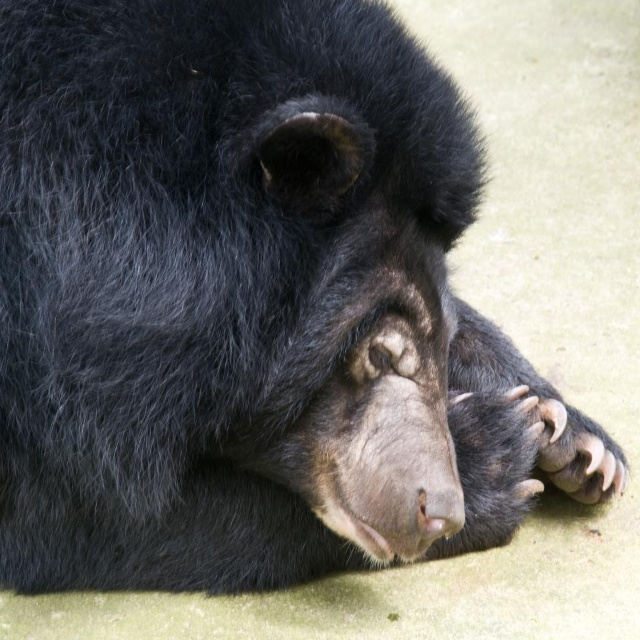Bear: (0, 0, 631, 596)
